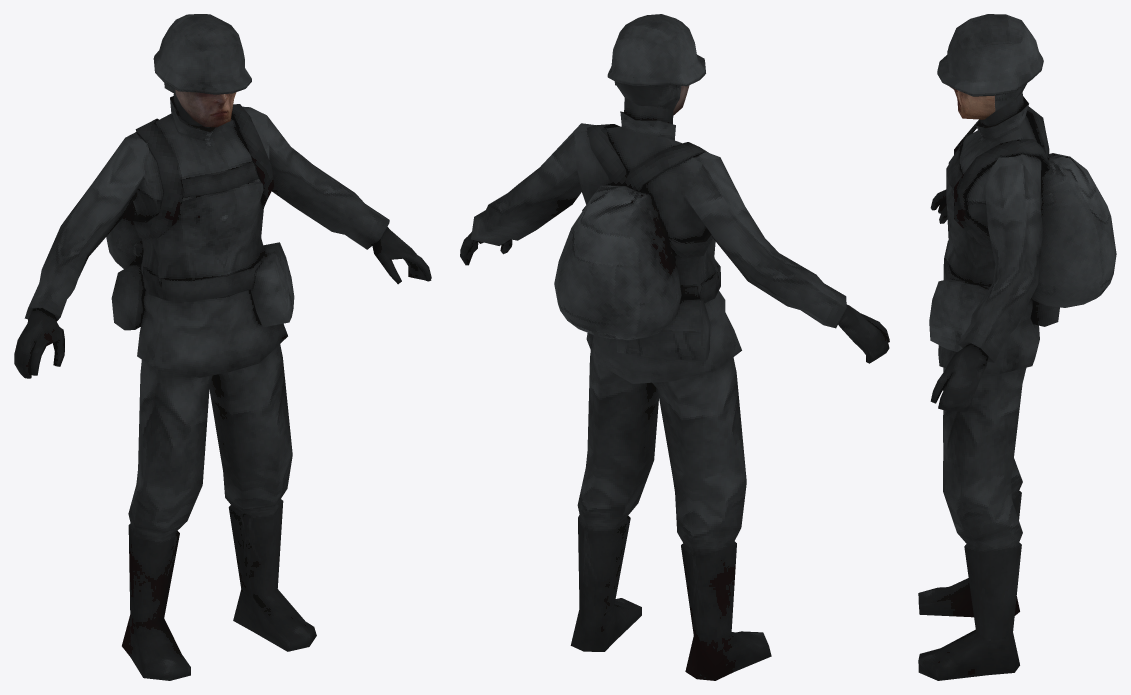
Rendered from ww2_soviet_soldier_black_gray_face_preserved.glb.
3 views of the same model, side by side, from view 1: azimuth 30°, elevation 25°; view 2: azimuth 150°, elevation 25°; view 3: azimuth 270°, elevation 25° (orthographic). The views are drawn at different scales.
Visible parts, largest first — view 1: final_0; view 2: final_0; view 3: final_0.
Part boxes in pixels (bbox=[...]): final_0: bbox=[14, 14, 431, 680]; final_0: bbox=[460, 14, 889, 680]; final_0: bbox=[918, 14, 1116, 680].
Bounding box in the file's own units: 1.27 × 1.86 × 0.5389.
Materials: 1 (1 with a texture image).
